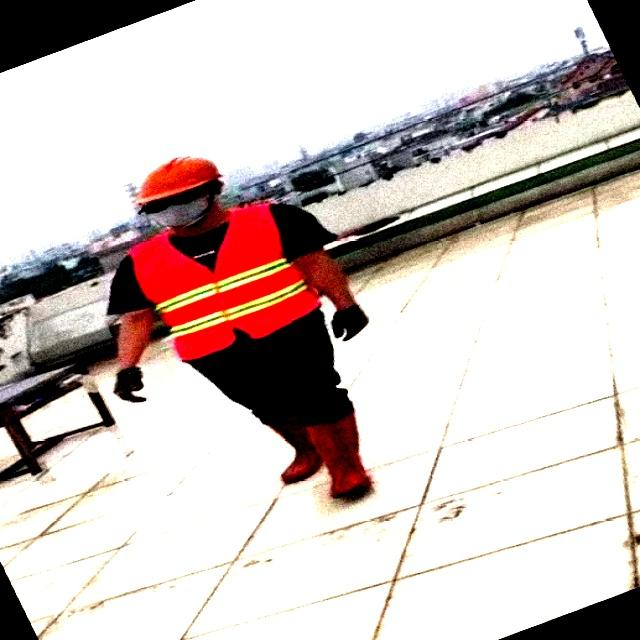helmet: (130, 150, 234, 210)
safety_vest: (119, 220, 322, 344)
